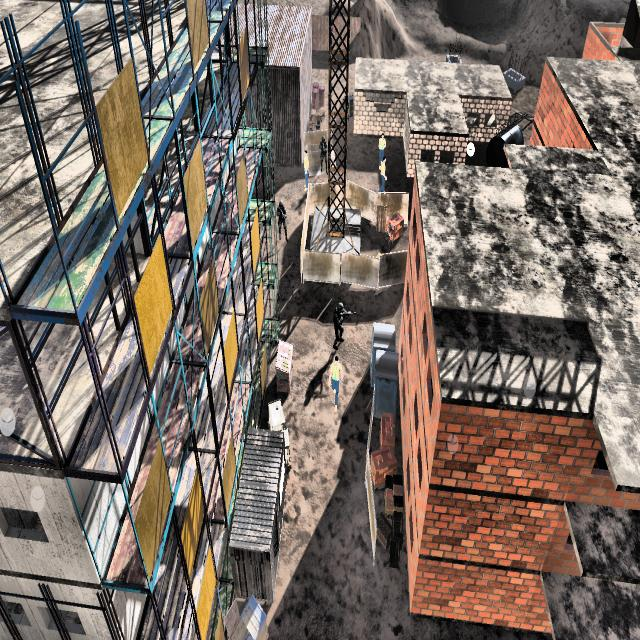bad: (330, 290, 349, 352), (274, 192, 288, 249), (317, 129, 327, 181)
good: (324, 352, 345, 412), (375, 151, 389, 194), (302, 139, 310, 192), (377, 125, 386, 157)
